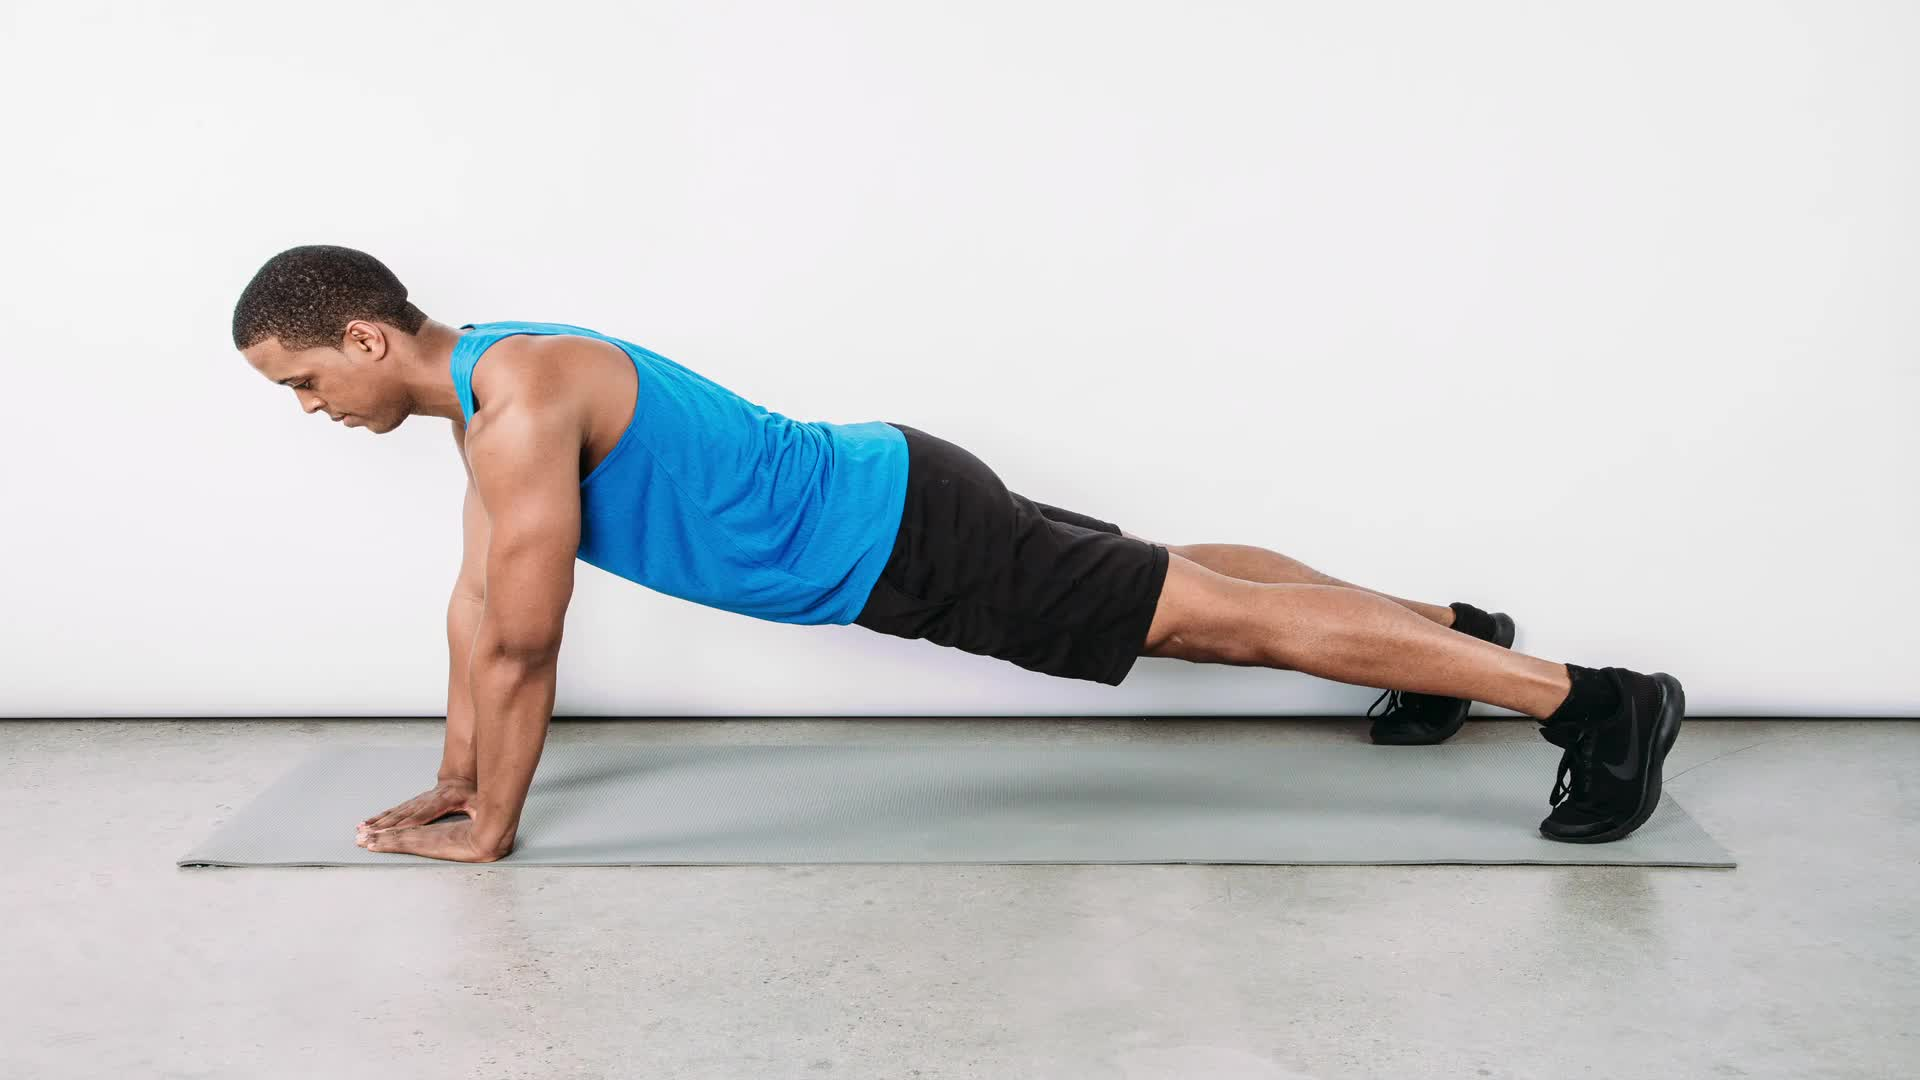up: (232, 245, 1683, 890)
